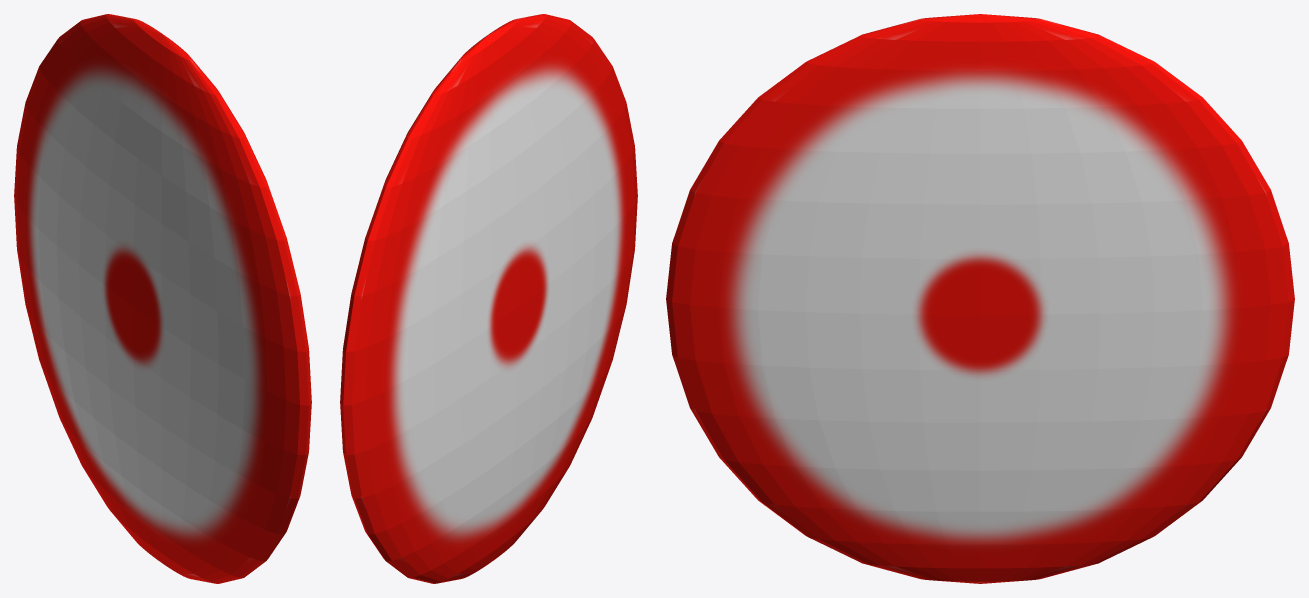
Rendered from target.glb.
3 views of the same model, side by side, from view 1: azimuth 30°, elevation 25°; view 2: azimuth 150°, elevation 25°; view 3: azimuth 270°, elevation 25° (orthographic). The views are drawn at different scales.
Parts seen in each view (by area): view 1: Sphere; view 2: Sphere; view 3: Sphere.
Part boxes in pixels (<box>): Sphere: <box>14,14,311,583</box>; Sphere: <box>340,14,637,583</box>; Sphere: <box>666,14,1294,583</box>.
Bounding box in the file's own units: 0.24 × 2 × 2.
Materials: 1 (1 with a texture image).
